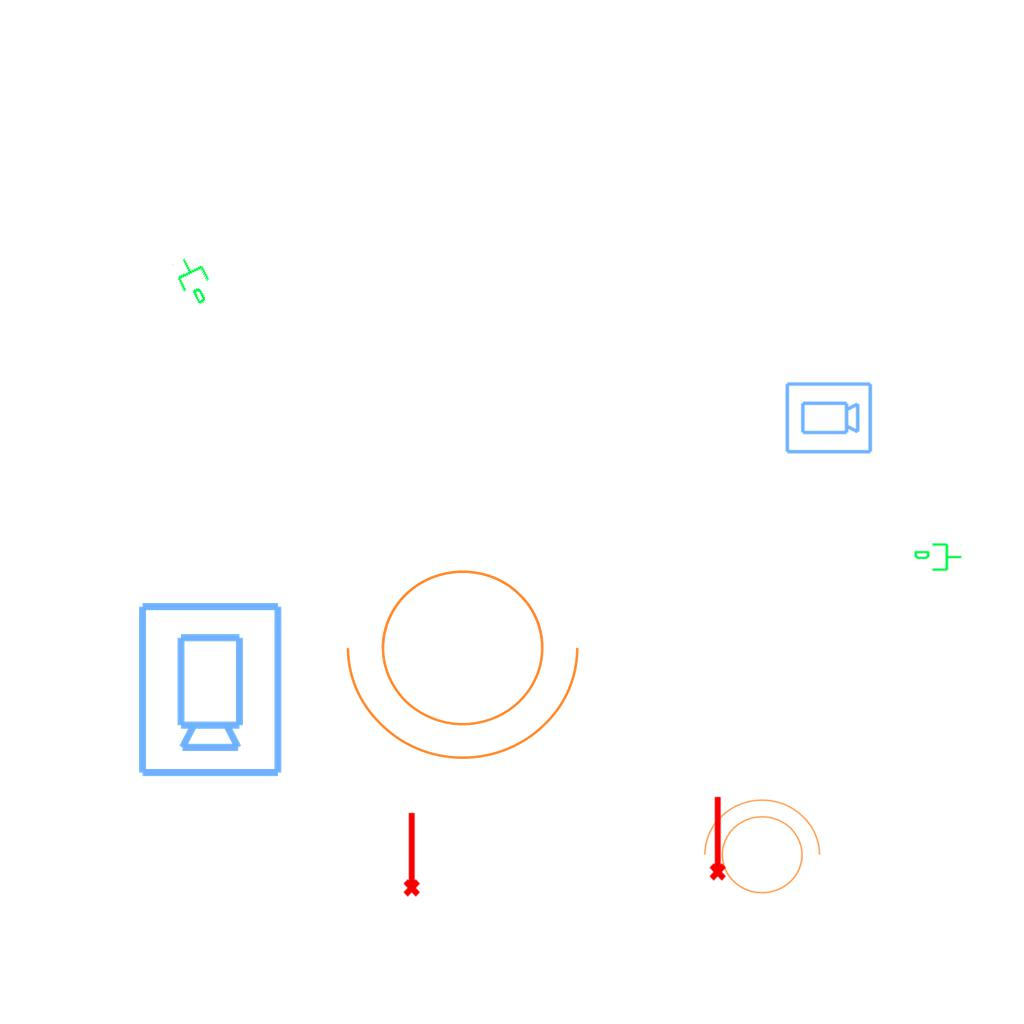ASR_Ansaugoeffnung: (399, 810, 422, 898), (705, 794, 728, 882)
Datenanschluss_einfach: (168, 250, 222, 310), (913, 541, 963, 575)
KFO_Kamera_mit_Festobjektiv: (132, 598, 286, 780), (783, 380, 874, 457)
Scheinwerfer_fuer_Alarmbeleuchtung: (337, 545, 601, 770), (693, 794, 825, 906)
